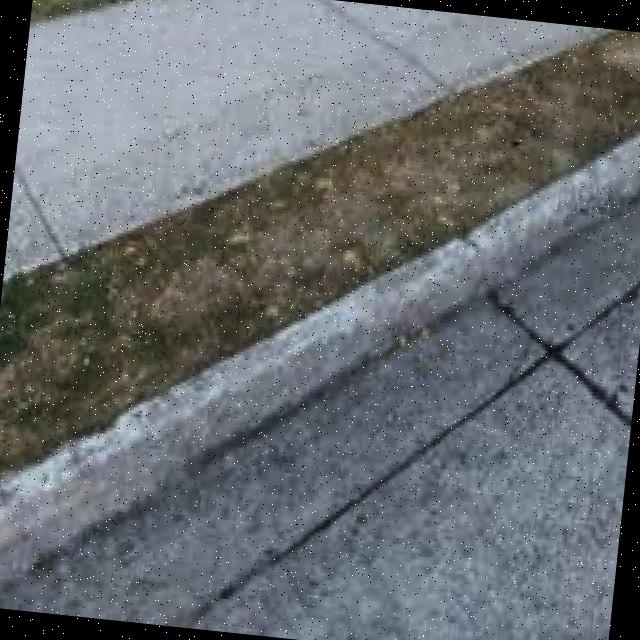curb: (1, 385, 167, 611), (183, 273, 348, 471), (366, 189, 562, 341), (542, 99, 640, 253)
